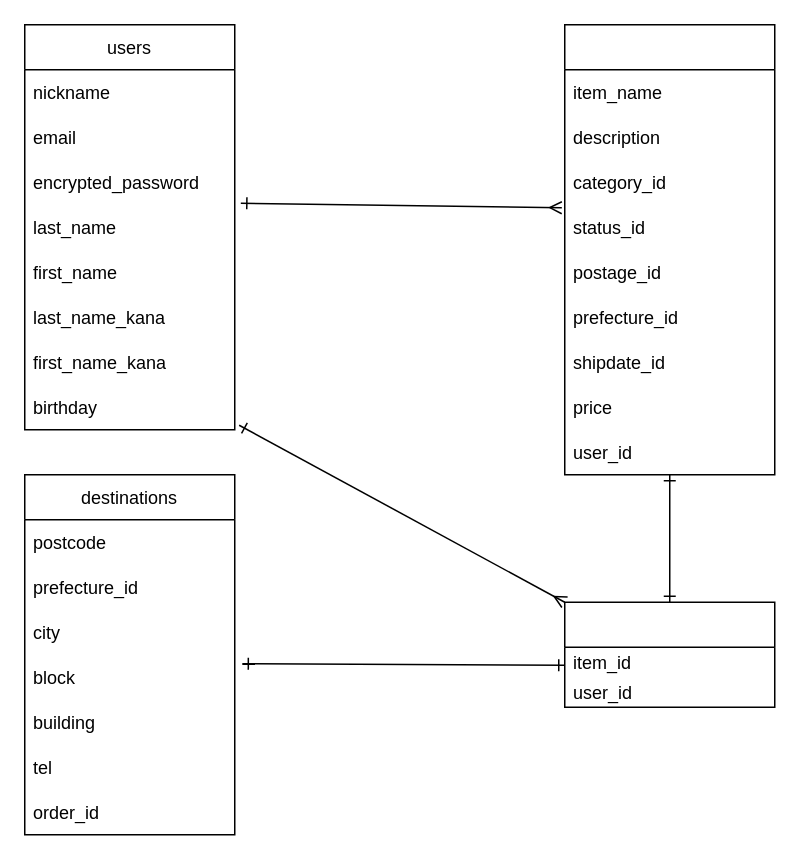
The diagram is 800 pixels wide and 860 high, and some of its shapes have lost their labels. The shapes that lost their labels are listed below. From the top down, each one's box as (x1, y1, x2, y2) in pixels, then its label:
(563, 23, 775, 475): items
(563, 601, 775, 707): orders
